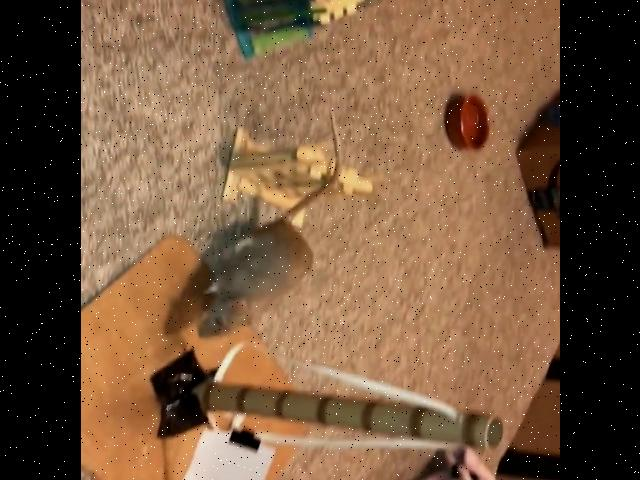Tikus: (186, 222, 320, 340)
